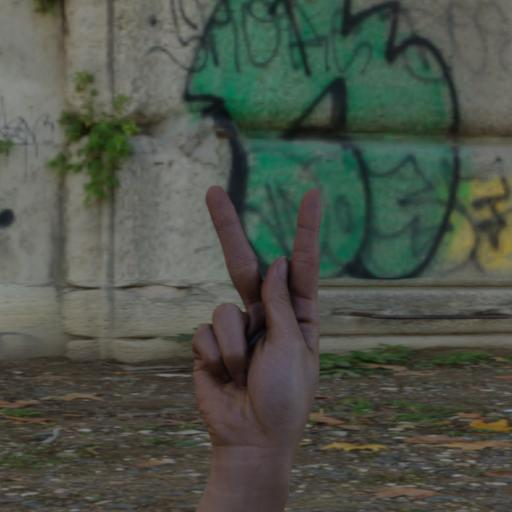K: (139, 142, 411, 455)
